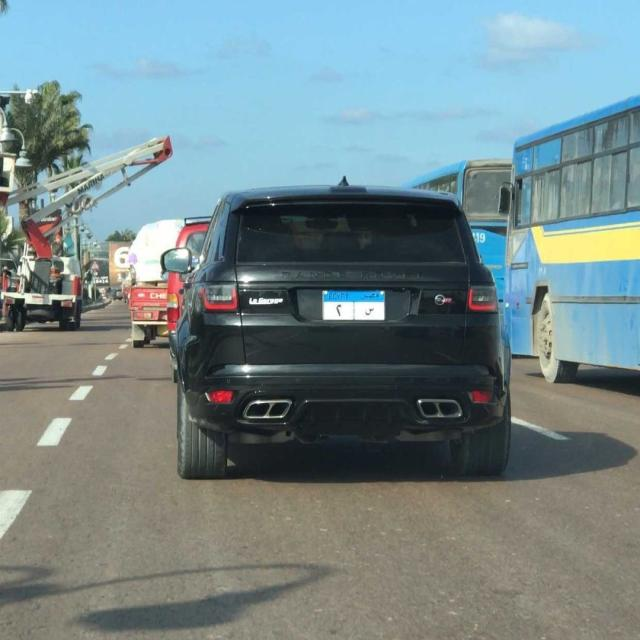License Plate: (322, 287, 386, 322)
